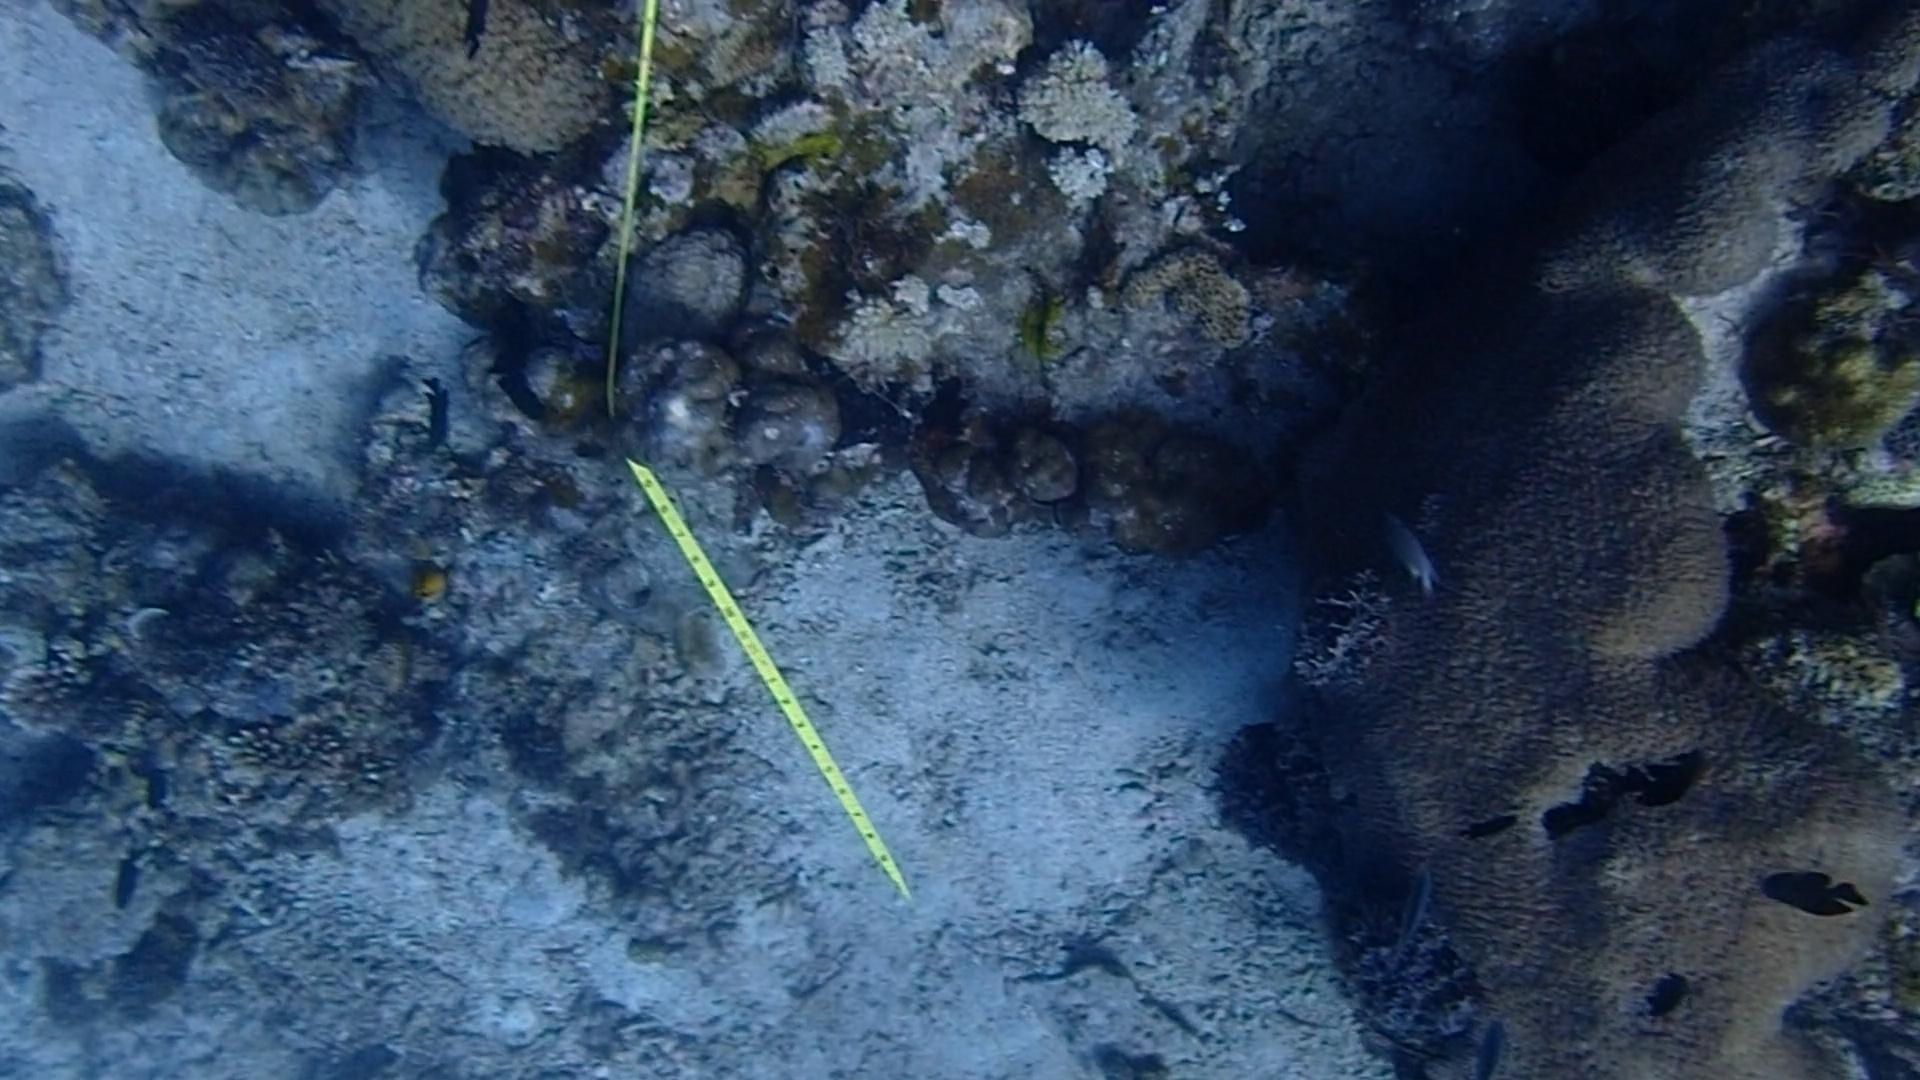Dark Fish: (1617, 740, 1714, 812), (1762, 865, 1876, 926), (488, 360, 560, 435), (409, 372, 462, 462), (1636, 965, 1704, 1034), (1458, 795, 1524, 858), (105, 849, 153, 926), (137, 764, 183, 819)
Light Fish: (1379, 505, 1452, 621), (1375, 862, 1456, 963)
